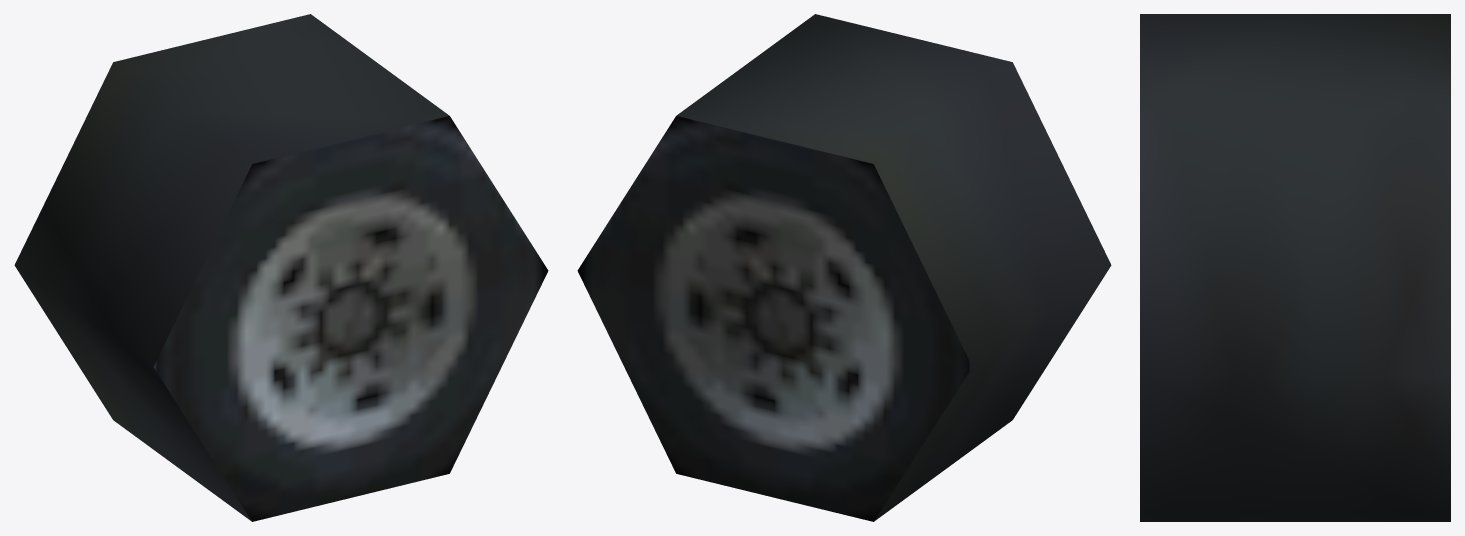
File: Shared - Ground Vehicles - Big Rig - Damage State 34 - CVBigRig_d34.glb
The picture shows the model from 3 angles, left to right: view 1: azimuth 30°, elevation 25°; view 2: azimuth 150°, elevation 25°; view 3: azimuth 270°, elevation 25°; orthographic projection. The views are drawn at different scales.
Parts seen in each view (by area): view 1: CVBIGRIG_D34; view 2: CVBIGRIG_D34; view 3: CVBIGRIG_D34.
Part boxes in pixels (x1=…): CVBIGRIG_D34: x1=14, y1=14, x2=548, y2=521; CVBIGRIG_D34: x1=577, y1=14, x2=1111, y2=521; CVBIGRIG_D34: x1=1140, y1=14, x2=1450, y2=521.
Size of the model in its own units: 5.05 by 4.37 by 3.08.
Materials: 1 (1 with a texture image).
